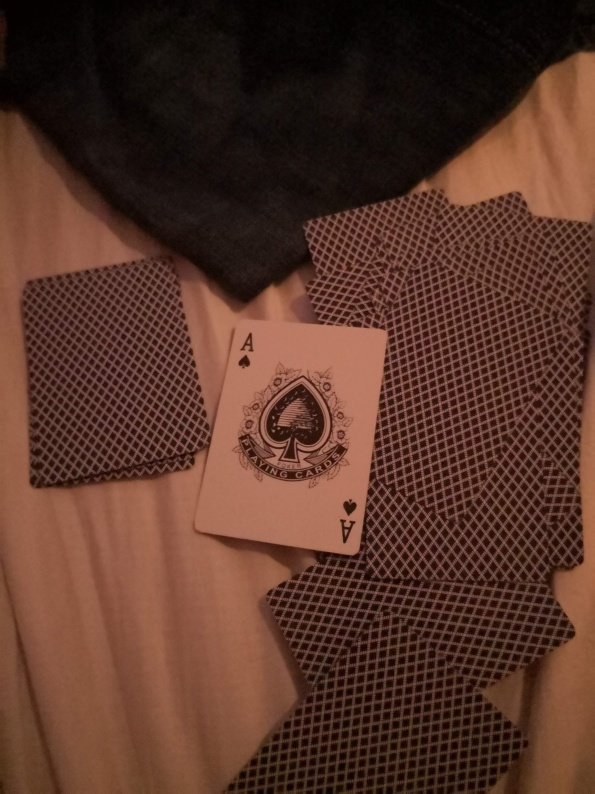ace: (193, 317, 389, 558)
